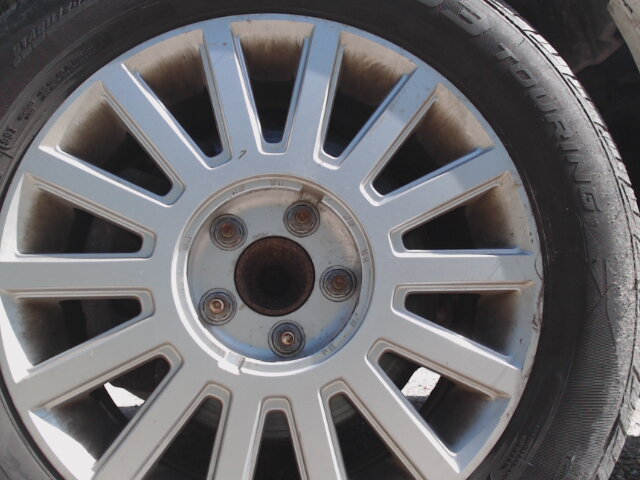l: (192, 279, 240, 334), (314, 260, 359, 304), (268, 317, 307, 365), (207, 209, 247, 250), (284, 197, 318, 234)
